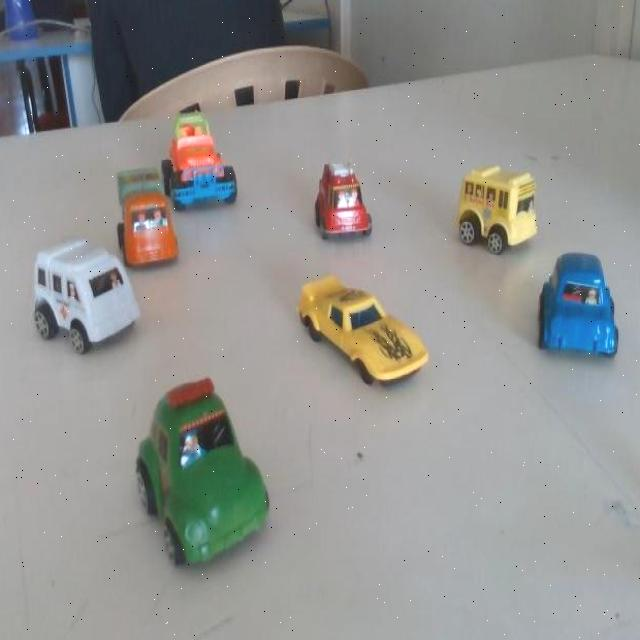car: (125, 386, 264, 552), (24, 222, 148, 374), (292, 268, 430, 394), (448, 163, 536, 264), (165, 106, 248, 210), (539, 253, 619, 359), (114, 158, 178, 272), (302, 153, 372, 255)
